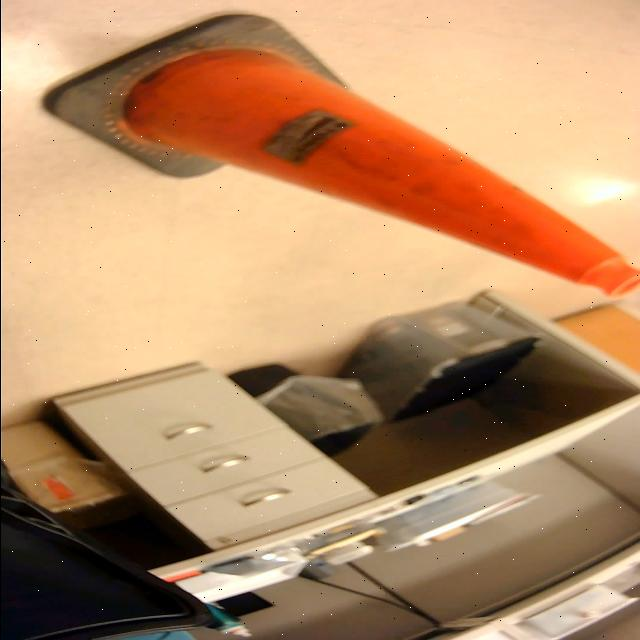traffic cone: (36, 10, 640, 302)
